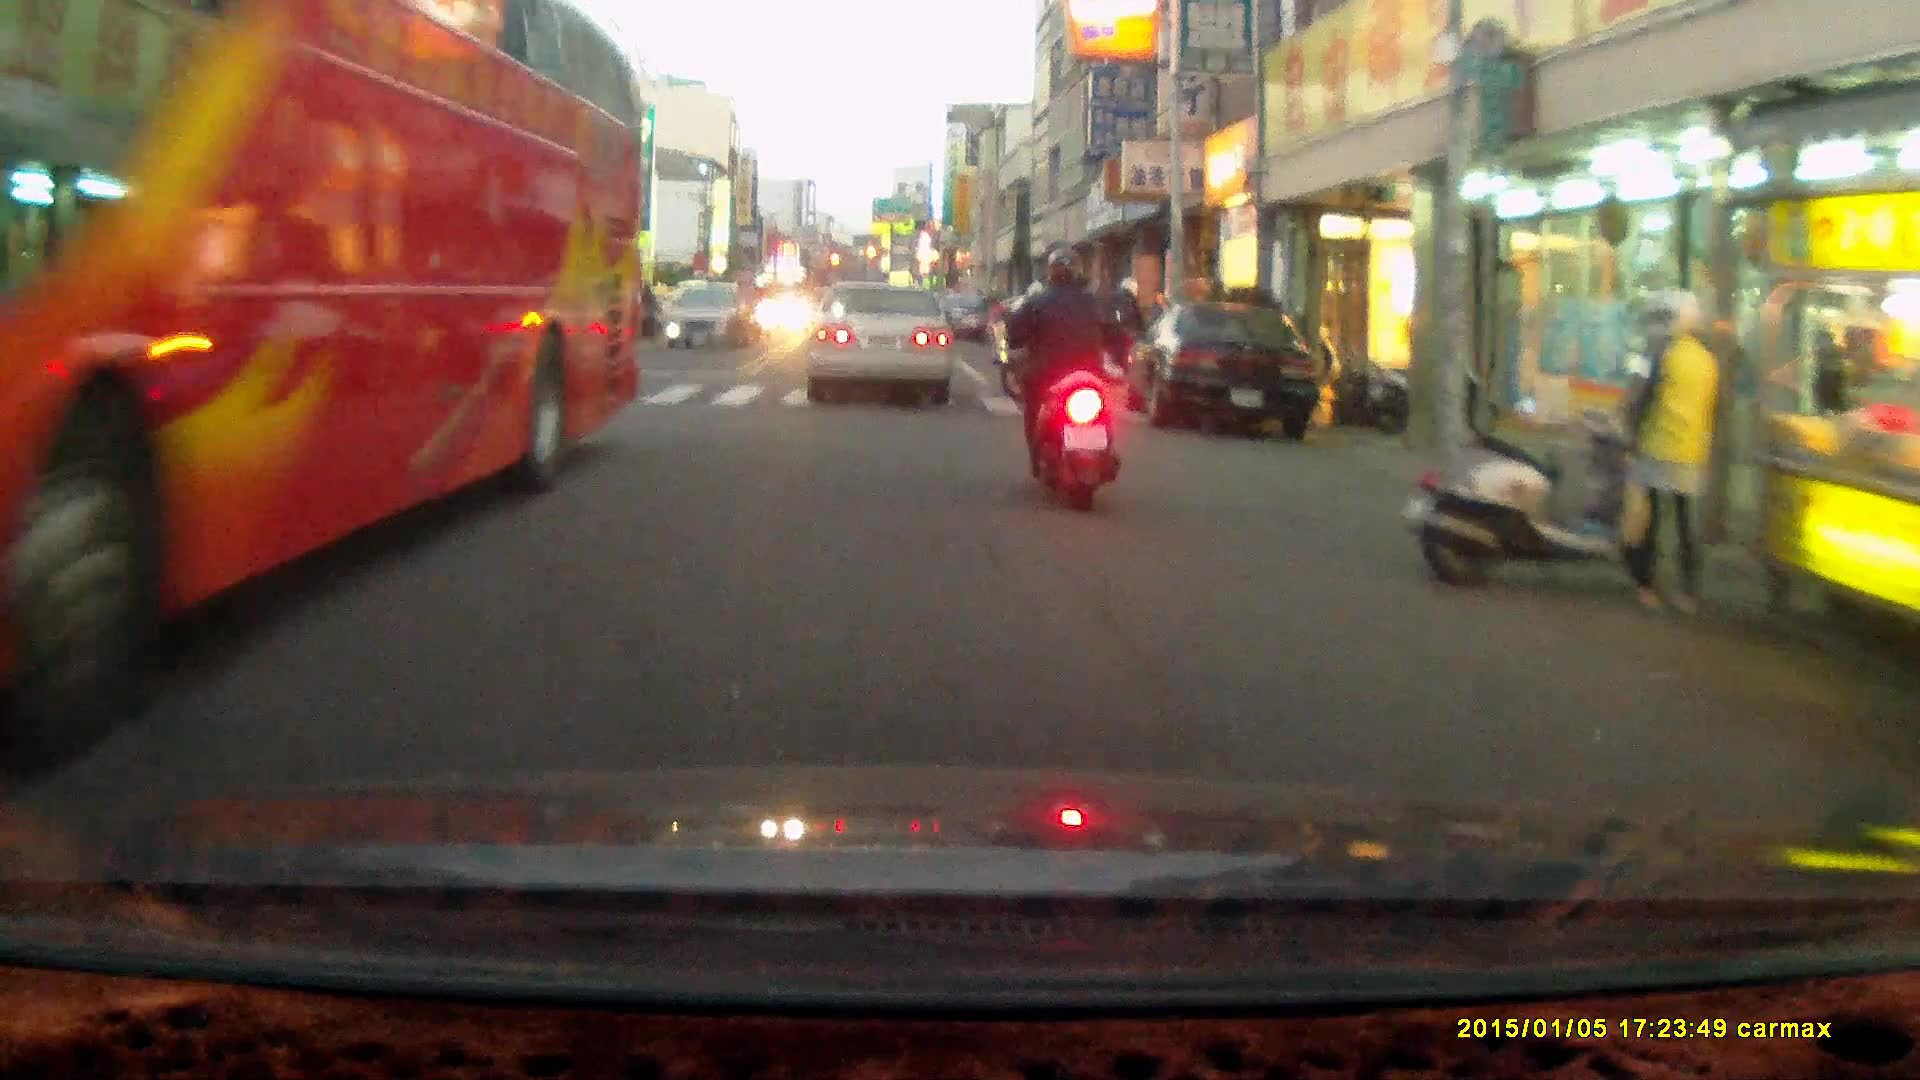pedestrian: (1616, 283, 1722, 617), (1110, 276, 1147, 394), (639, 281, 659, 343)
rider: (995, 245, 1120, 512)
vehicle: (1, 16, 652, 715), (1122, 302, 1334, 437), (808, 281, 957, 405), (662, 282, 756, 353)
